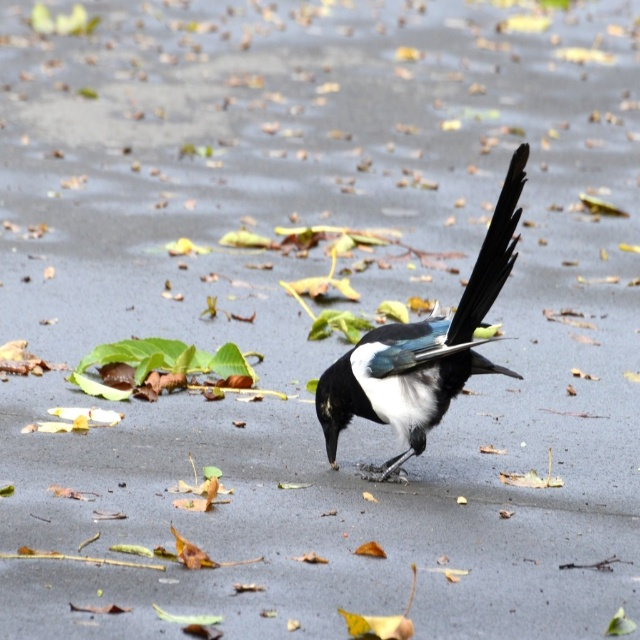Magpie: (315, 137, 531, 489)
